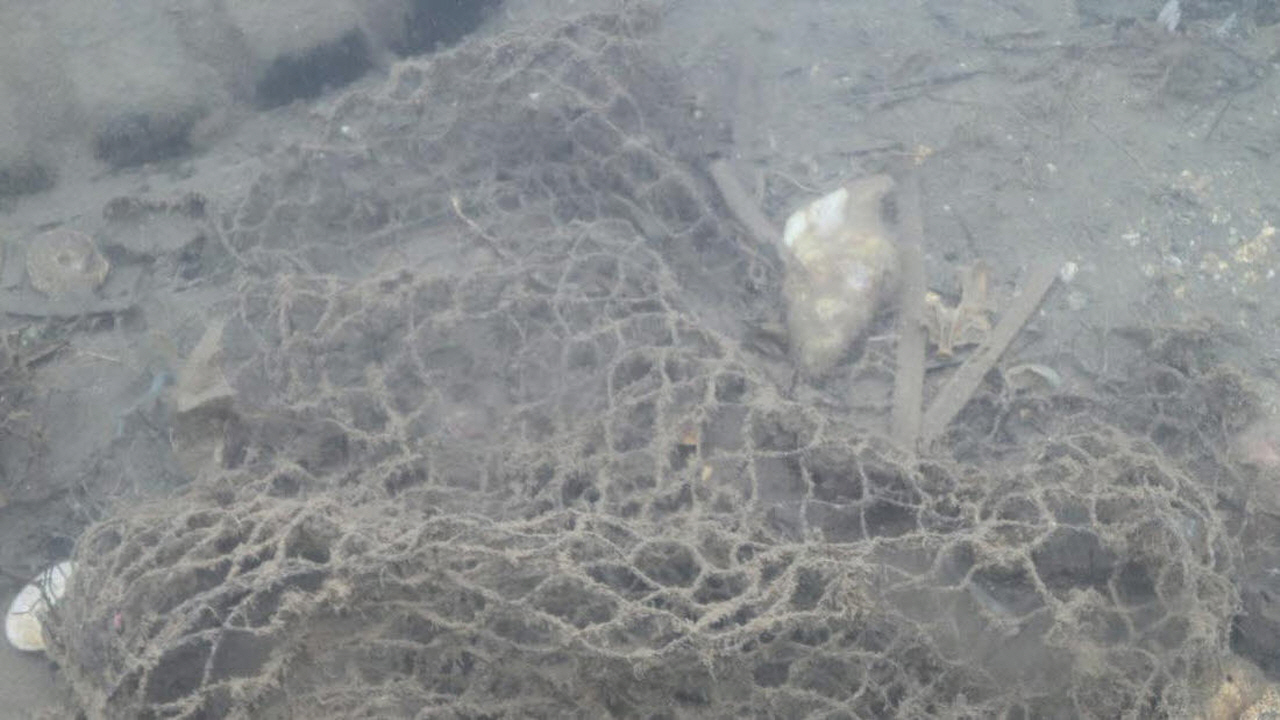fish net: (37, 9, 1257, 720)
